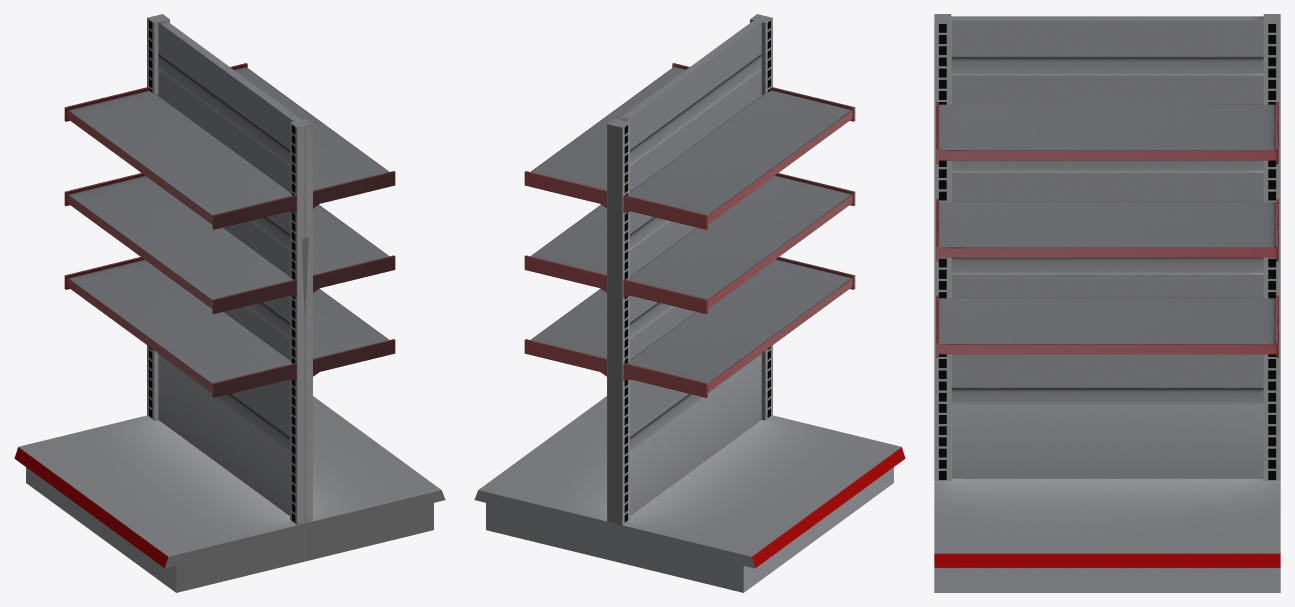
Rendered from sp_rack_3.FBX.
The picture shows the model from 3 angles, left to right: view 1: azimuth 30°, elevation 25°; view 2: azimuth 150°, elevation 25°; view 3: azimuth 270°, elevation 25°; orthographic projection. The views are drawn at different scales.
Visible parts, largest first — view 1: sp_rack_3; view 2: sp_rack_3; view 3: sp_rack_3.
Part boxes in pixels (box(x1,y1,x2,y2)): sp_rack_3: box(14, 14, 445, 592); sp_rack_3: box(474, 14, 905, 592); sp_rack_3: box(934, 14, 1280, 592).
Size of the model in its own units: 42.52 by 39.37 by 62.99.
